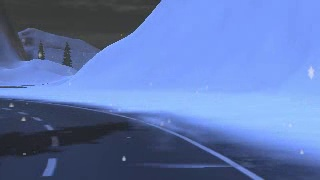Lane: (0, 98, 260, 179)
